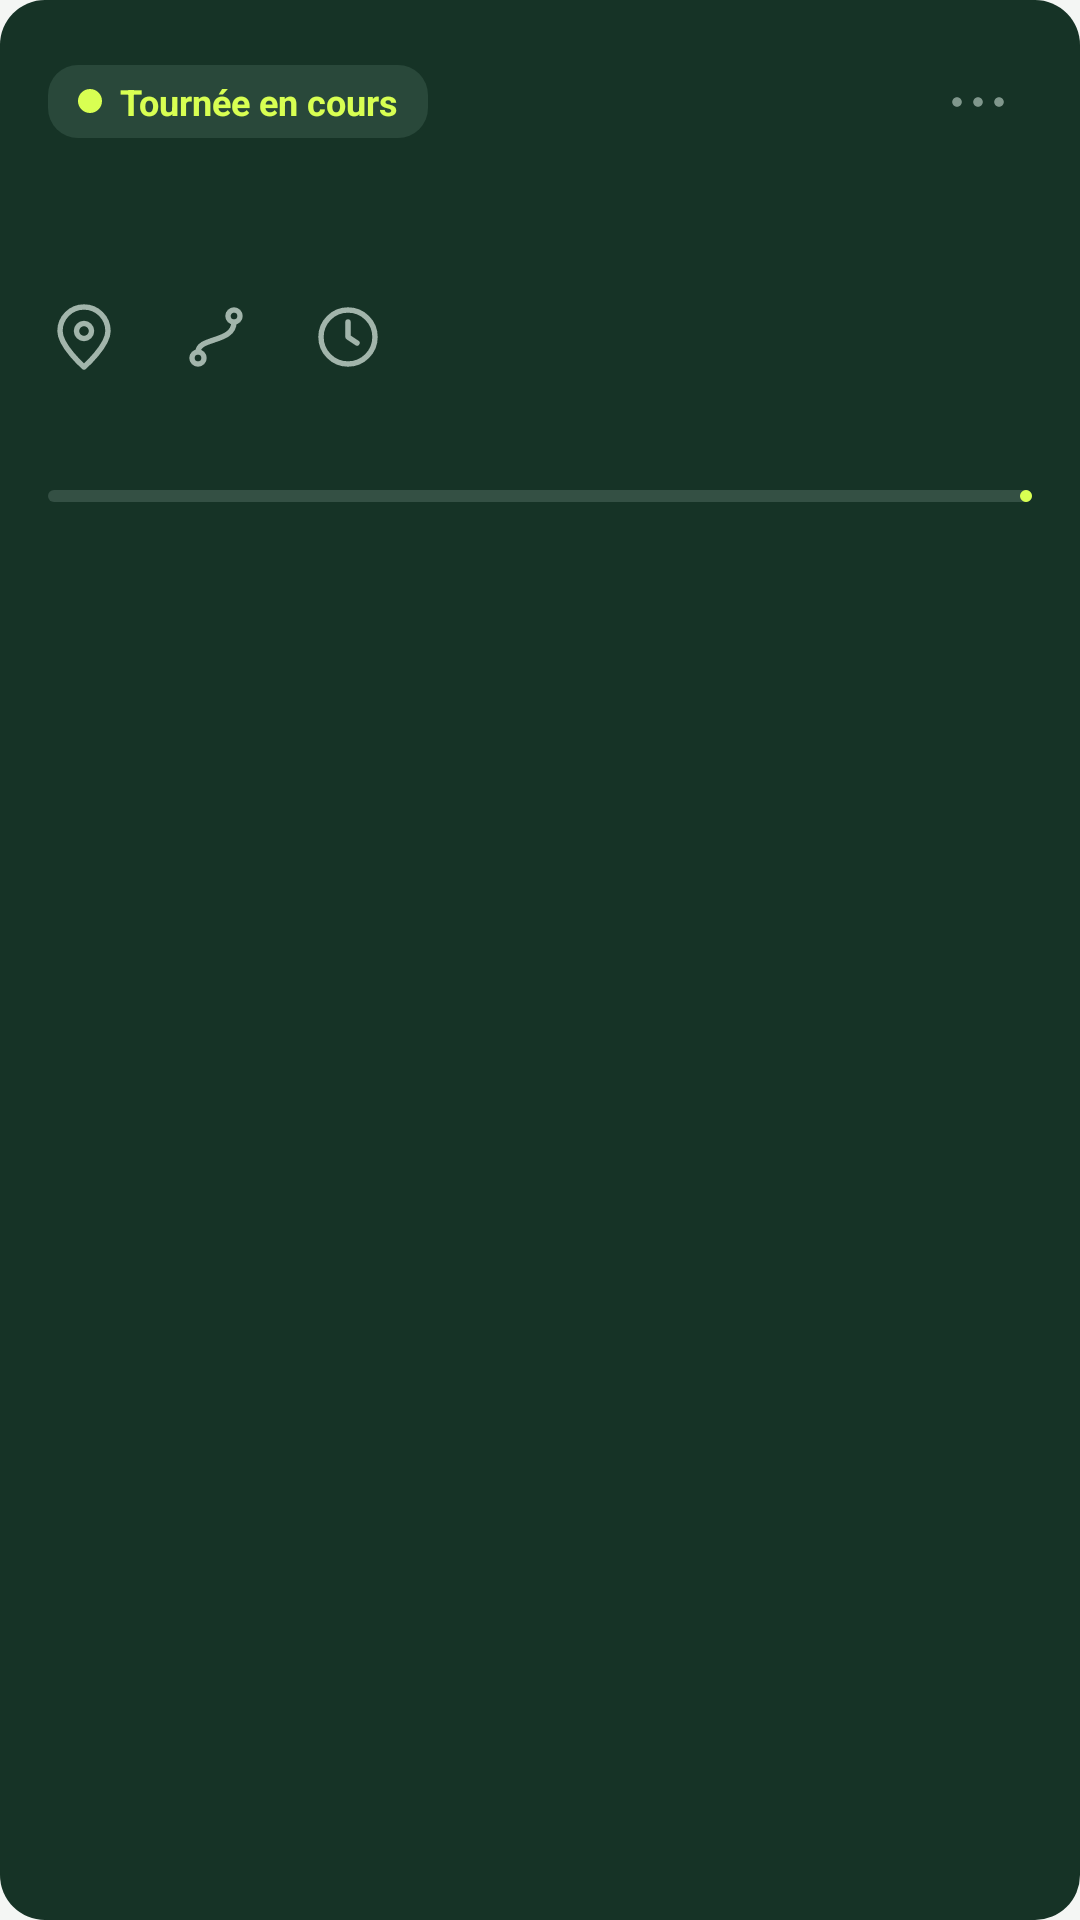

Locate icon controls on the screen. Image size 1080*1920, boxes as (x1, y1, x2, y2).
Options: (952, 97, 1004, 107)
